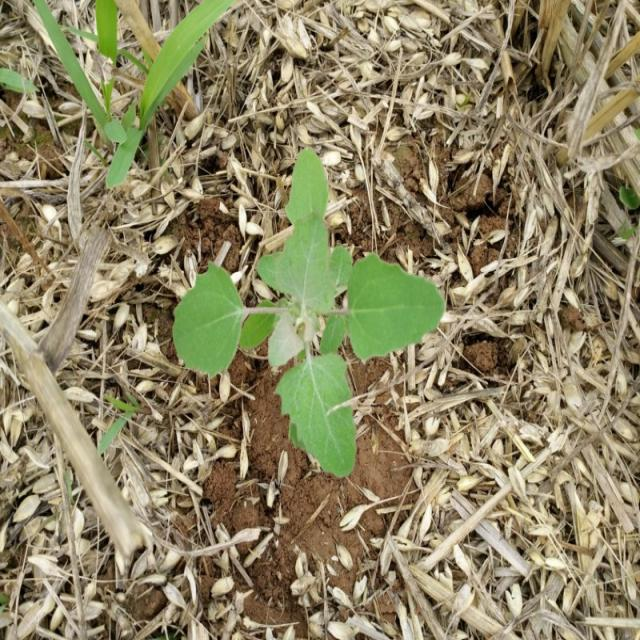ca: (176, 151, 443, 476)
